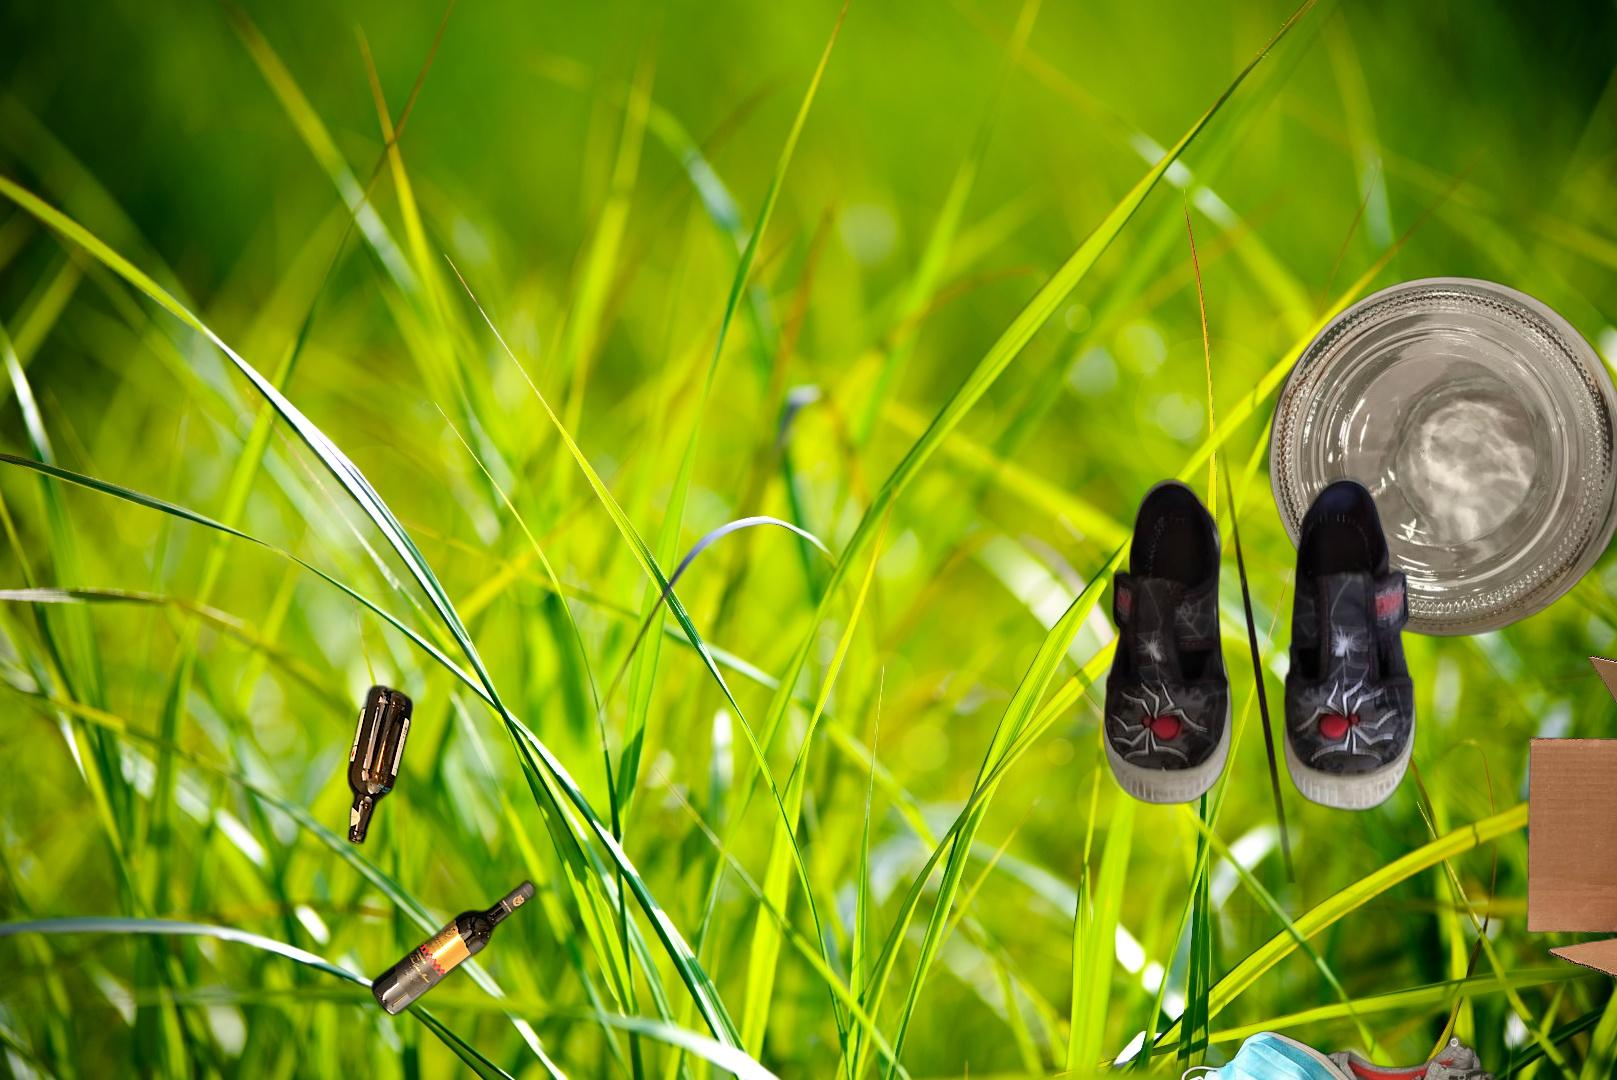clothes: (1212, 1027, 1543, 1080)
glass: (1265, 274, 1617, 640), (343, 679, 547, 1080), (1445, 869, 1617, 1080)
shoes: (1099, 350, 1421, 884), (1378, 303, 1589, 489)
trash: (1178, 1028, 1415, 1080)
trashbox-cardboard: (1521, 651, 1617, 1023)
